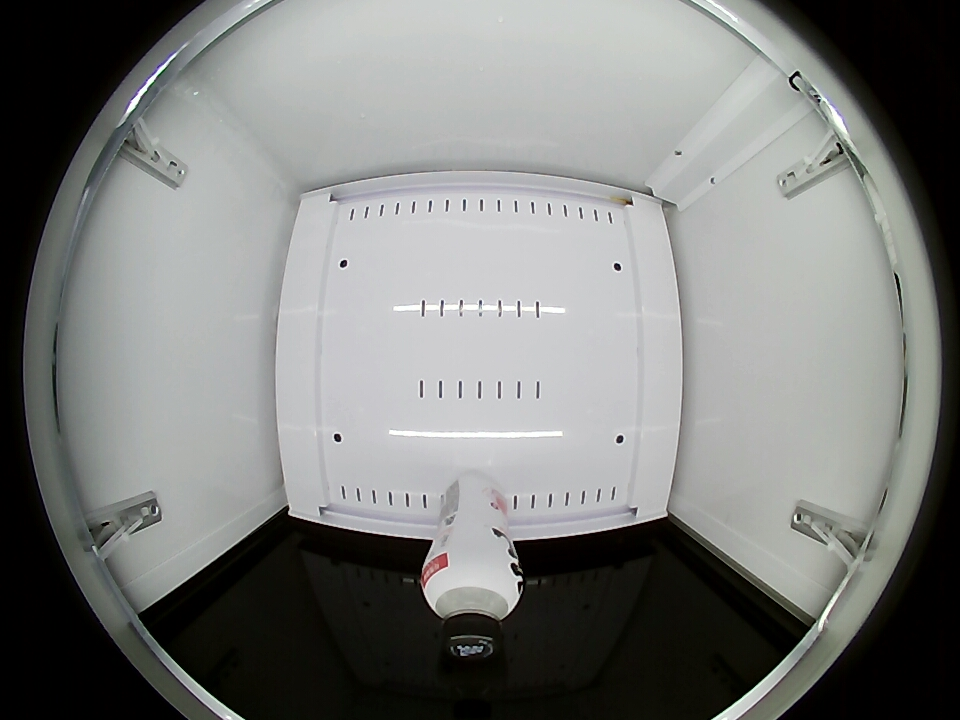yuanqishui: (420, 546, 524, 660)
